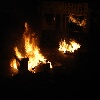fire: (8, 22, 53, 71), (59, 38, 81, 53)
